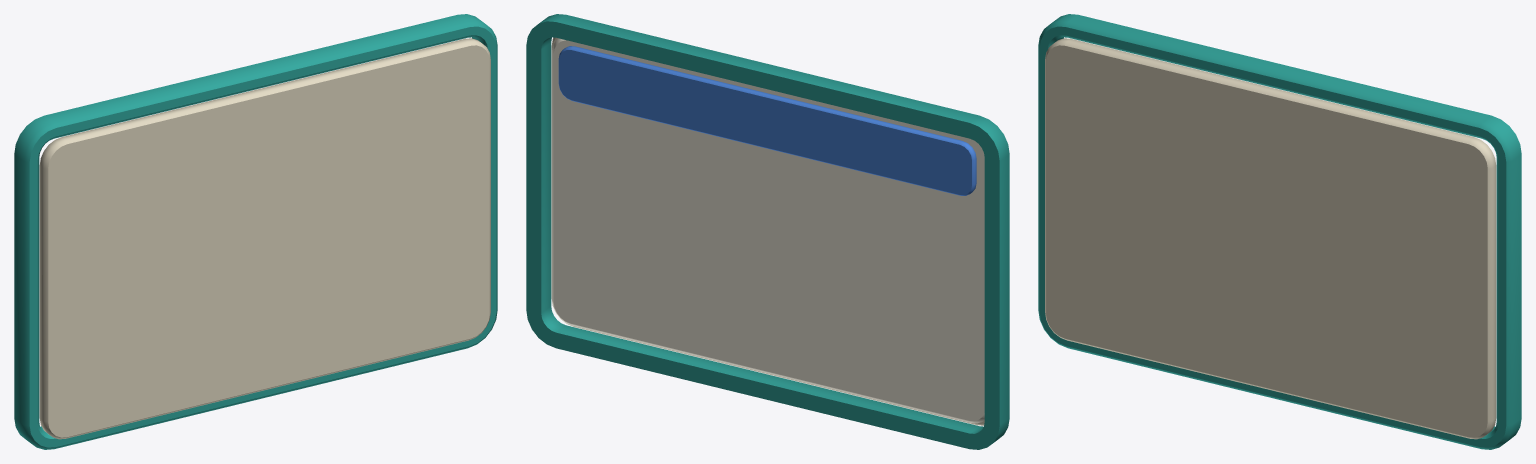
File: TaskCard_V2_Polished.fbx
3 renders of one model, left to right at view 1: azimuth 30°, elevation 25°; view 2: azimuth 150°, elevation 25°; view 3: azimuth 330°, elevation 25°, orthographic.
Parts seen in each view (by area): view 1: Card_BackingEdge, Card_SelectionRim; view 2: Card_Body, Card_SelectionRim, Card_RoleHeaderStrip, Card_BackingEdge; view 3: Card_BackingEdge, Card_SelectionRim.
Boxes of the visible parts, x1,y1,x2,y2 form: Card_BackingEdge: [39, 38, 490, 439]; Card_SelectionRim: [14, 14, 497, 449]; Card_Body: [552, 38, 984, 423]; Card_SelectionRim: [526, 14, 1009, 449]; Card_RoleHeaderStrip: [558, 46, 976, 195]; Card_BackingEdge: [551, 37, 984, 425]; Card_BackingEdge: [1045, 38, 1496, 439]; Card_SelectionRim: [1038, 14, 1521, 449].
Size of the model in its own units: 8.2 by 5.4 by 0.54.
